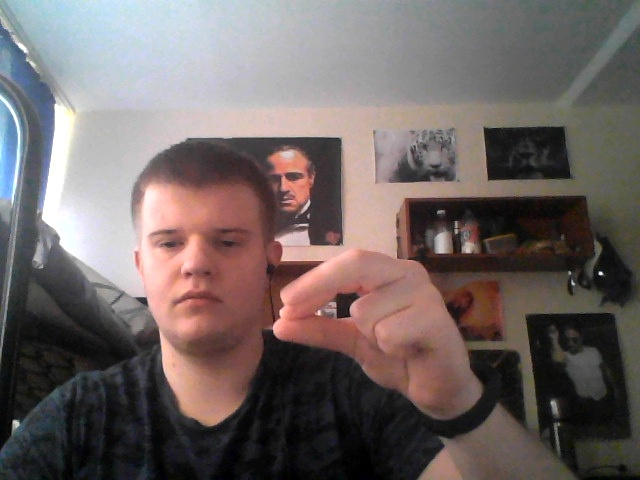no: (269, 244, 481, 415)
